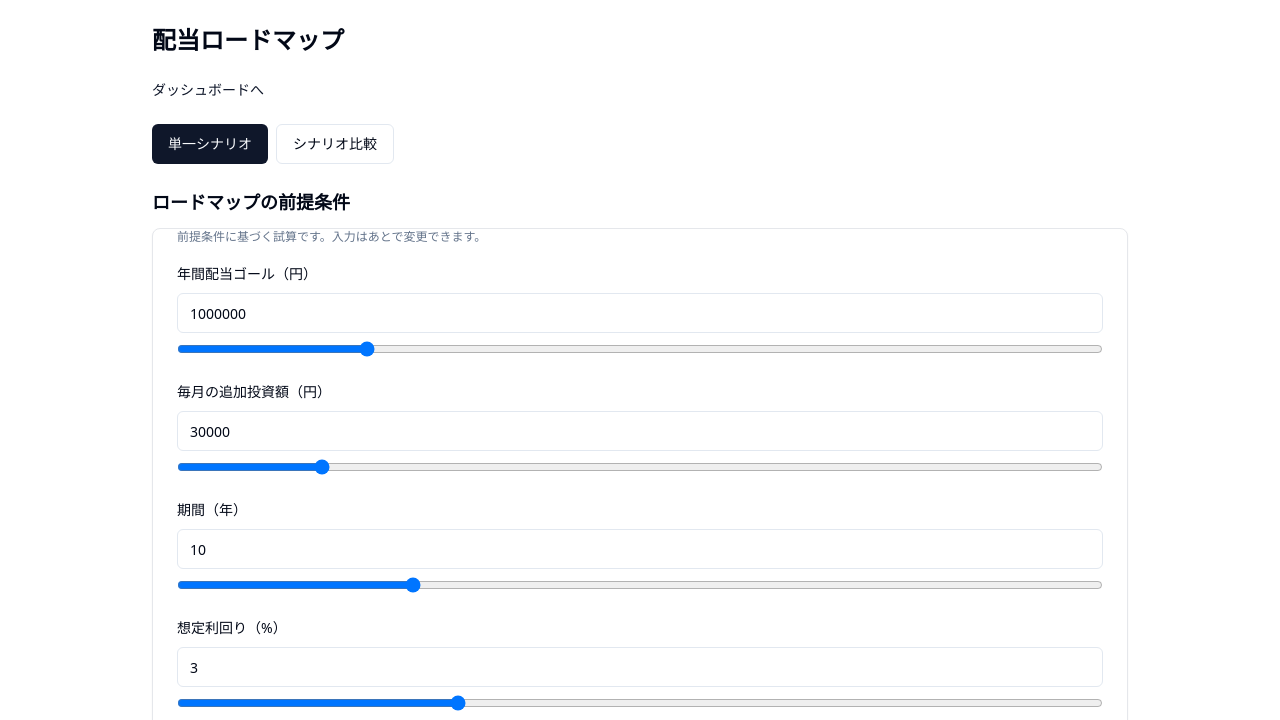
Test: RoadmapPage compare flow › エラー時でも単一シナリオ表示へ戻れる
The width and height of the screenshot is (1280, 720).
Step 1. Click the button "シナリオ比較" → coordinates (335, 144), box [276, 124, 394, 164]
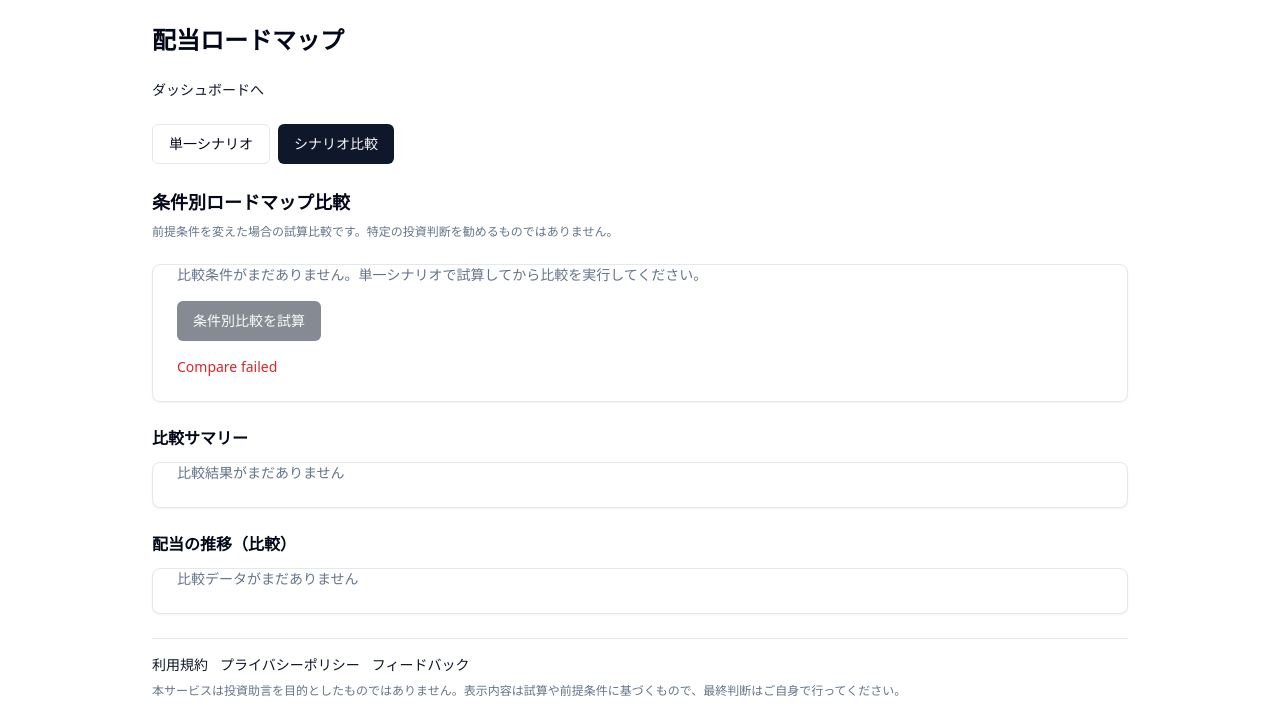
Expected: the text "Compare failed" is shown, [177, 357, 277, 376]
Step 2. Click the button "単一シナリオ" → coordinates (211, 144), box [152, 124, 270, 164]
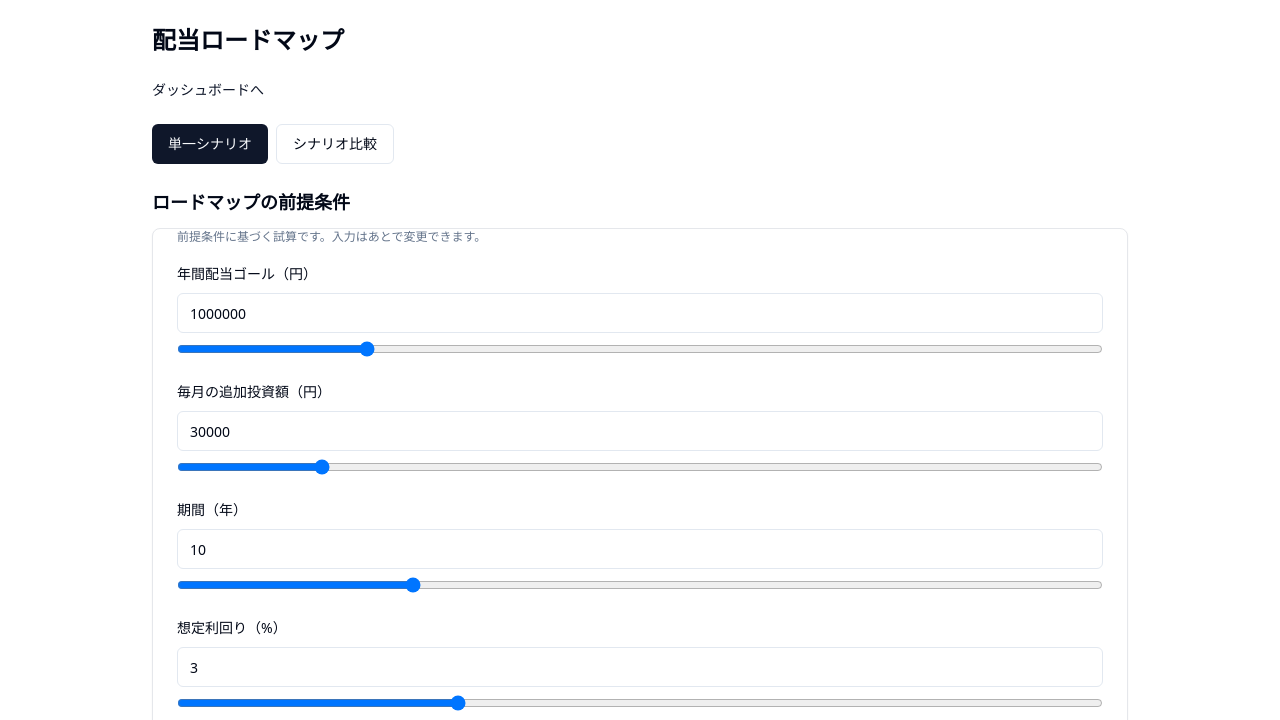
Expected: the heading "ロードマップの前提条件" is shown, [152, 190, 350, 214]
